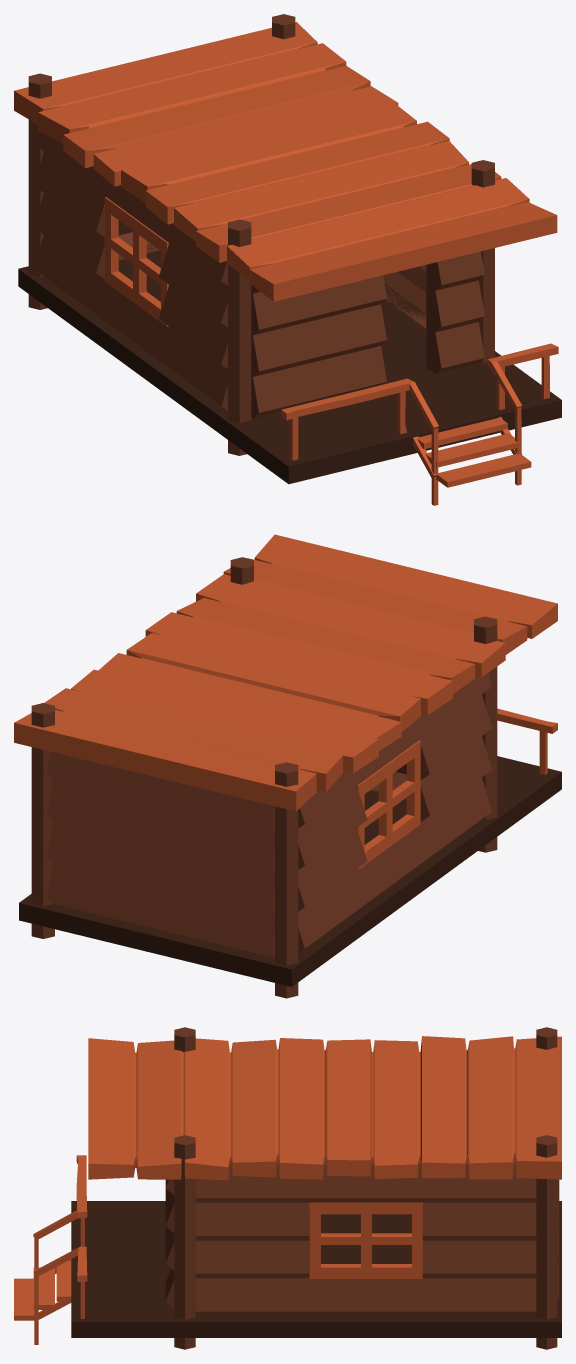
File: CASA MODULO 1.FBX
3 views of the same model, one above another, from view 1: azimuth 30°, elevation 25°; view 2: azimuth 150°, elevation 25°; view 3: azimuth 270°, elevation 25° (orthographic). The views are drawn at different scales.
Visible parts, largest first — view 1: CASA 1; view 2: CASA 1; view 3: CASA 1.
Part boxes in pixels (x1,y1,x2,y2): CASA 1: (14,14,561,505); CASA 1: (14,534,561,998); CASA 1: (14,1027,561,1349).
Size of the model in its own units: 101 by 81.96 by 181.
